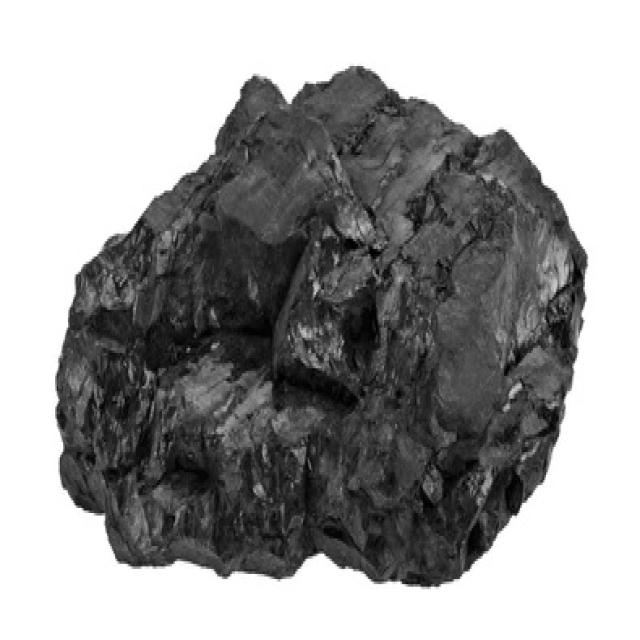Sedimentary: (53, 61, 593, 589)
